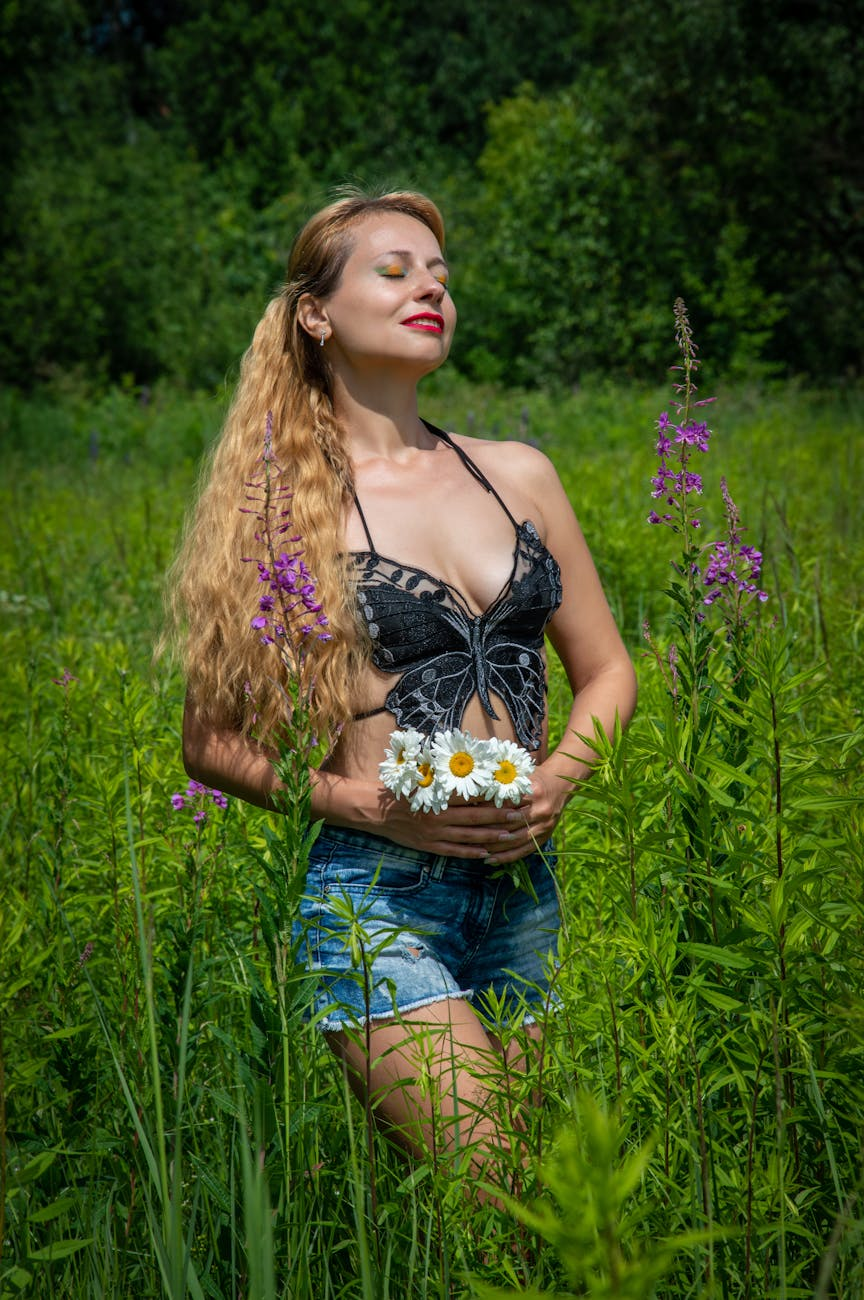crop_top: (290, 444, 594, 737)
shorts: (281, 823, 577, 1026)
